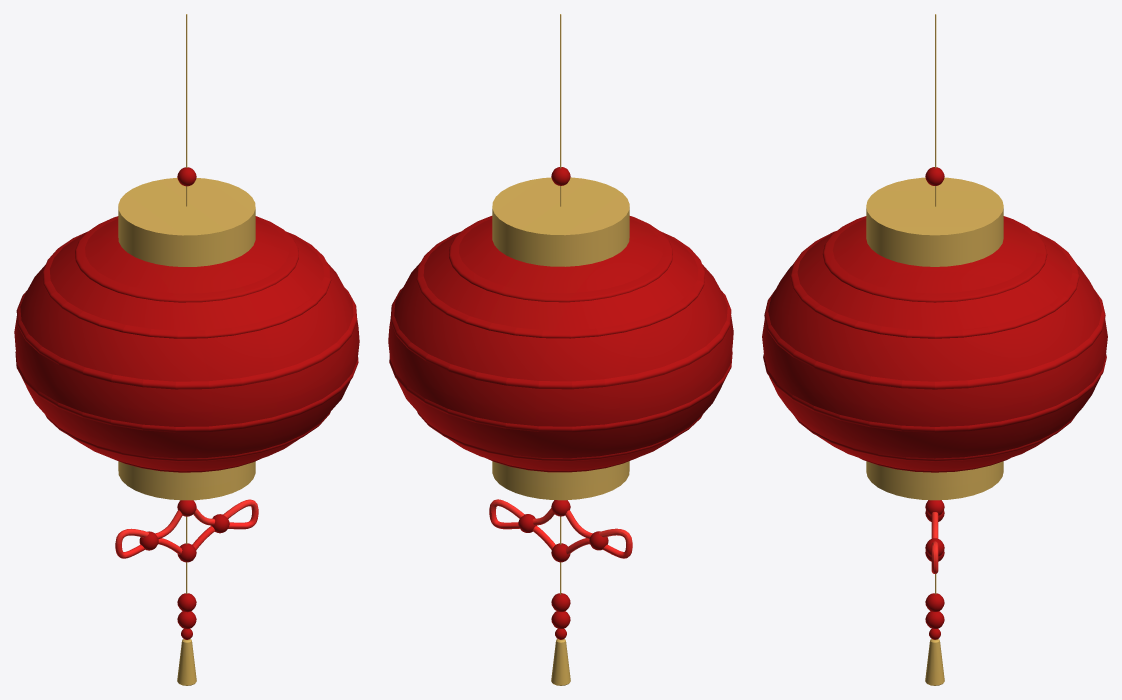
Rendered from 3D_Lantern.glb.
3 renders of one model, left to right at view 1: azimuth 30°, elevation 25°; view 2: azimuth 150°, elevation 25°; view 3: azimuth 270°, elevation 25°, orthographic.
Parts seen in each view (by area): view 1: Sphere, Cylinder, BézierCurve, Cylinder.002; view 2: Sphere, Cylinder, BézierCurve, Cylinder.002; view 3: Sphere, Cylinder, Cylinder.002.
Part boxes in pixels (x1,y1,x2,y2): Sphere: (14,216,359,472); Cylinder: (118,177,255,500); BézierCurve: (115,499,258,558); Cylinder.002: (177,639,196,685); Sphere: (388,216,733,472); Cylinder: (492,177,629,500); BézierCurve: (489,499,632,558); Cylinder.002: (551,639,570,685); Sphere: (762,216,1107,472); Cylinder: (866,177,1003,500); Cylinder.002: (925,639,944,685).
Bounding box in the file's own units: 0.5031 × 1.07 × 0.5027.
2 materials, 2 textured.
